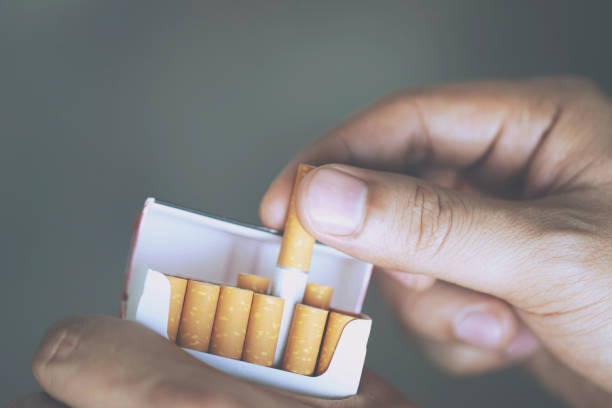cigarette: (117, 195, 377, 402), (268, 162, 319, 370), (208, 283, 254, 361), (283, 302, 330, 376), (178, 278, 223, 353), (312, 311, 363, 377), (242, 291, 286, 367), (162, 274, 188, 345), (302, 282, 334, 311), (234, 271, 272, 294)
